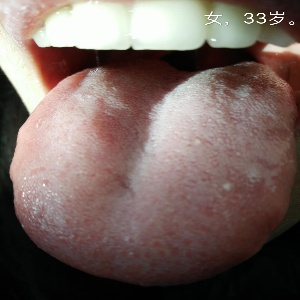st: (19, 80, 291, 279)
